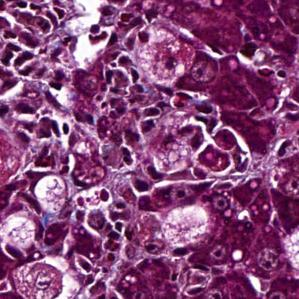ballooning: (158, 202, 213, 252), (0, 214, 45, 261), (32, 172, 69, 214)
